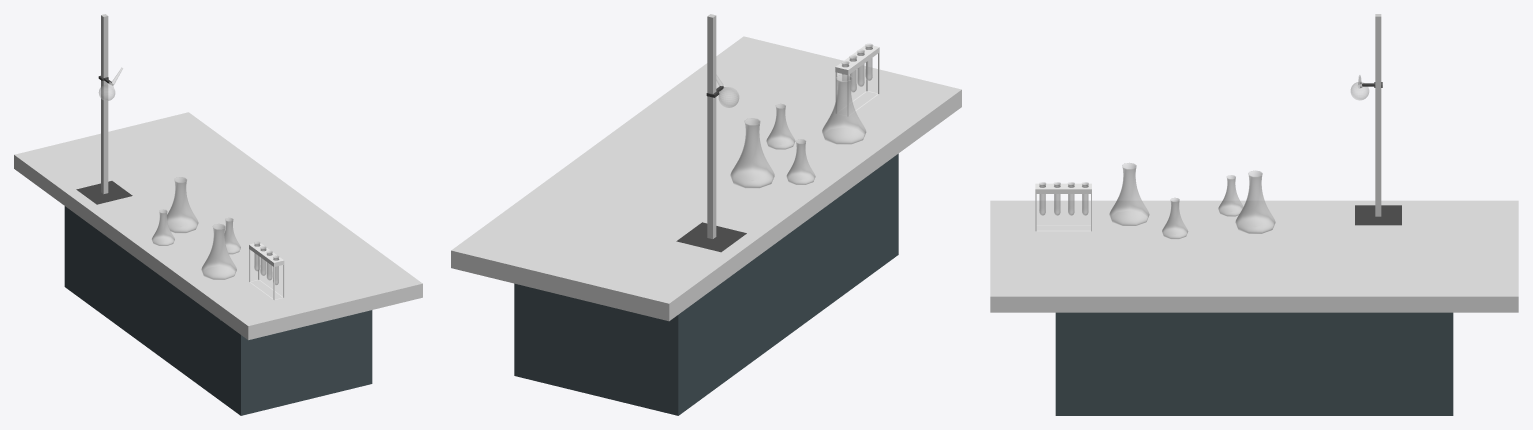
The model's file is FBX_ENV_FUT_LaboratoryTable.fbx.
3 renders of one model, left to right at view 1: azimuth 30°, elevation 25°; view 2: azimuth 150°, elevation 25°; view 3: azimuth 270°, elevation 25°, orthographic. The views are drawn at different scales.
Visible parts, largest first — view 1: Cube.001, Cube.003, NurbsPath.009, NurbsPath.001, Plane.002, NurbsPath.007, Circle.003, NurbsPath.006; view 2: Cube.001, Cube.003, NurbsPath.001, NurbsPath.009, Plane.002, NurbsPath.007, NurbsPath.006, Circle.003; view 3: Cube.001, NurbsPath.001, NurbsPath.009, Cube.003, Plane.002, NurbsPath.006, Circle.003, NurbsPath.007.
Boxes of the visible parts, x1,y1,x2,y2 form: Cube.001: (14, 112, 422, 415); Cube.003: (101, 14, 108, 194); NurbsPath.009: (201, 224, 236, 279); NurbsPath.001: (167, 177, 198, 233); Plane.002: (76, 181, 132, 204); NurbsPath.007: (151, 209, 174, 245); Circle.003: (249, 242, 284, 266); NurbsPath.006: (224, 217, 240, 254); Cube.001: (451, 36, 961, 415); Cube.003: (707, 14, 716, 238); NurbsPath.001: (730, 118, 774, 188); NurbsPath.009: (822, 74, 866, 144); Plane.002: (676, 222, 746, 252); NurbsPath.007: (786, 139, 815, 184); NurbsPath.006: (766, 103, 795, 149); Circle.003: (835, 44, 879, 74); Cube.001: (990, 200, 1518, 415); NurbsPath.001: (1235, 170, 1275, 233); NurbsPath.009: (1109, 163, 1149, 225); Cube.003: (1375, 14, 1381, 216); Plane.002: (1355, 205, 1401, 225); NurbsPath.006: (1162, 197, 1188, 239); Circle.003: (1035, 183, 1091, 193); NurbsPath.007: (1218, 175, 1243, 216).
Bounding box in the file's own units: 205 × 330 × 477.
